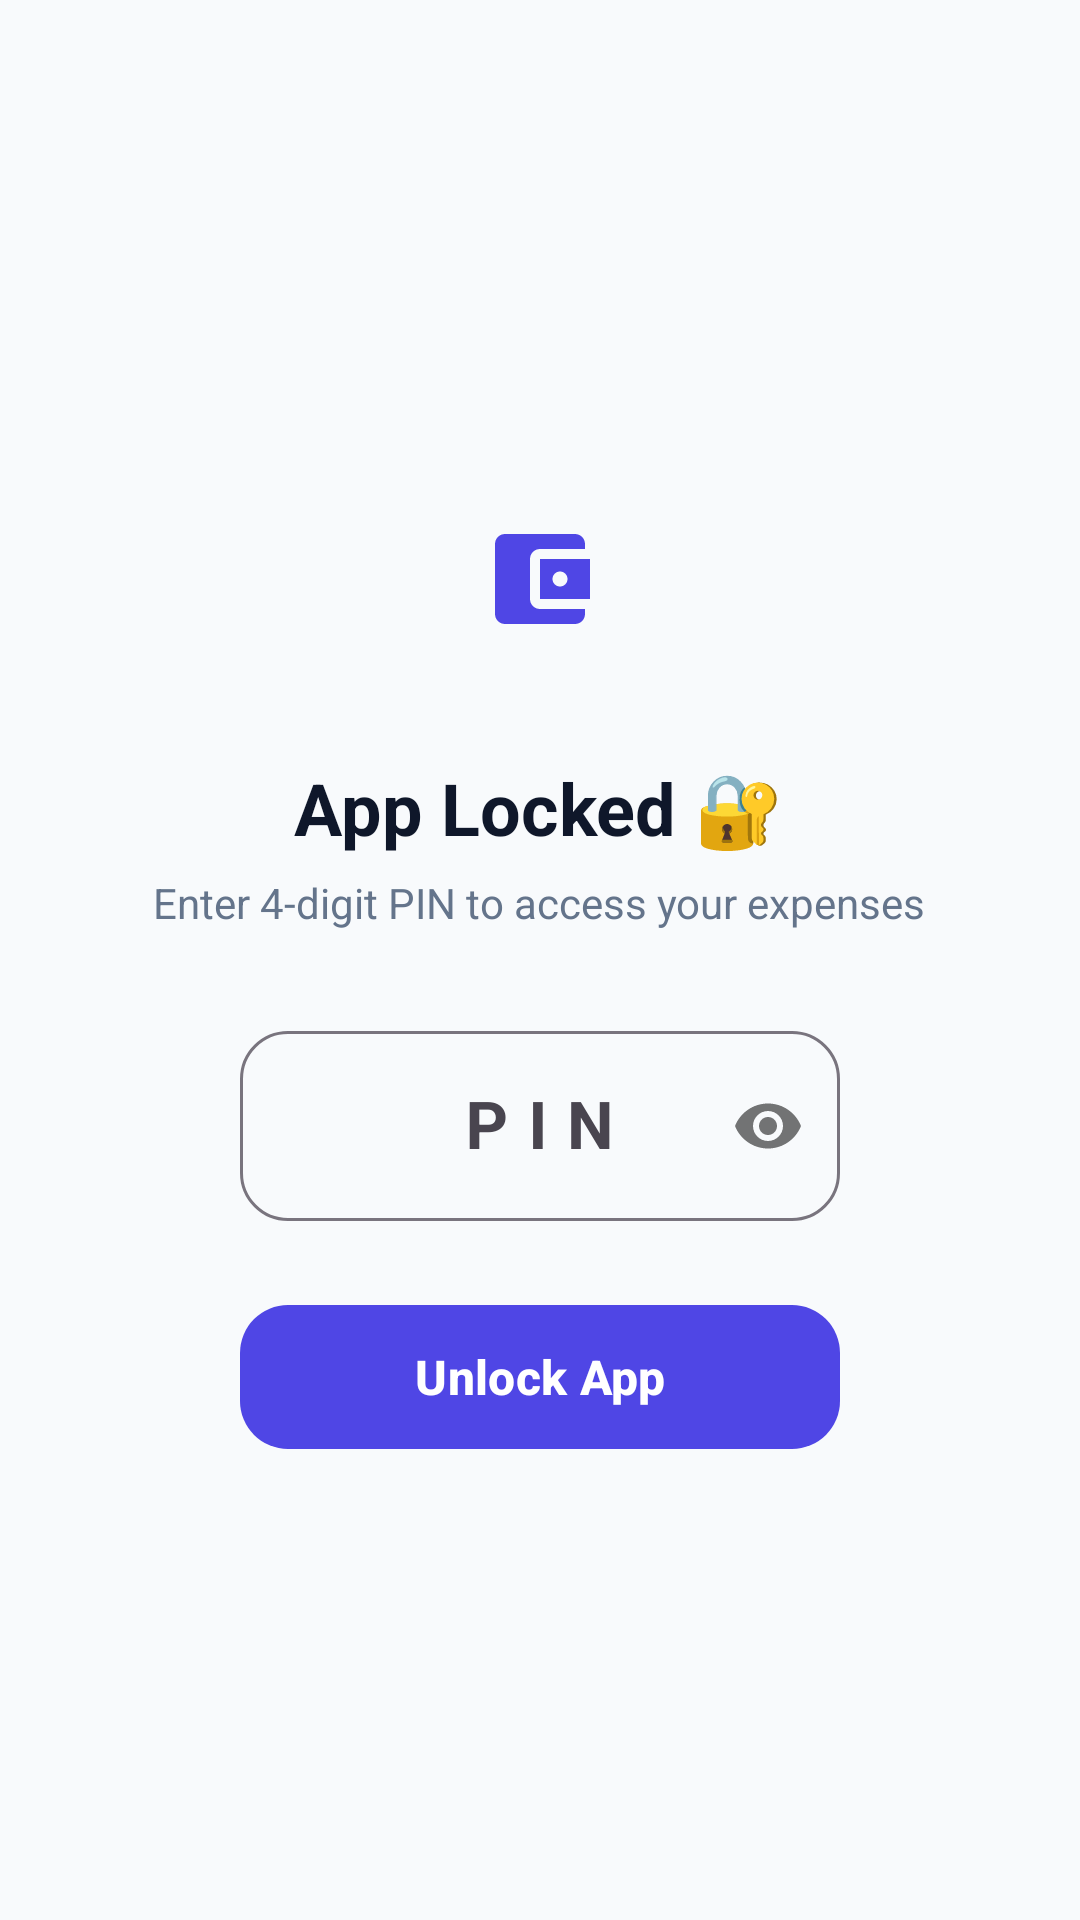

Named icons in this screenshot (1080px×1920px) and their centers, point (x, y):
wallet: point (542, 579)
